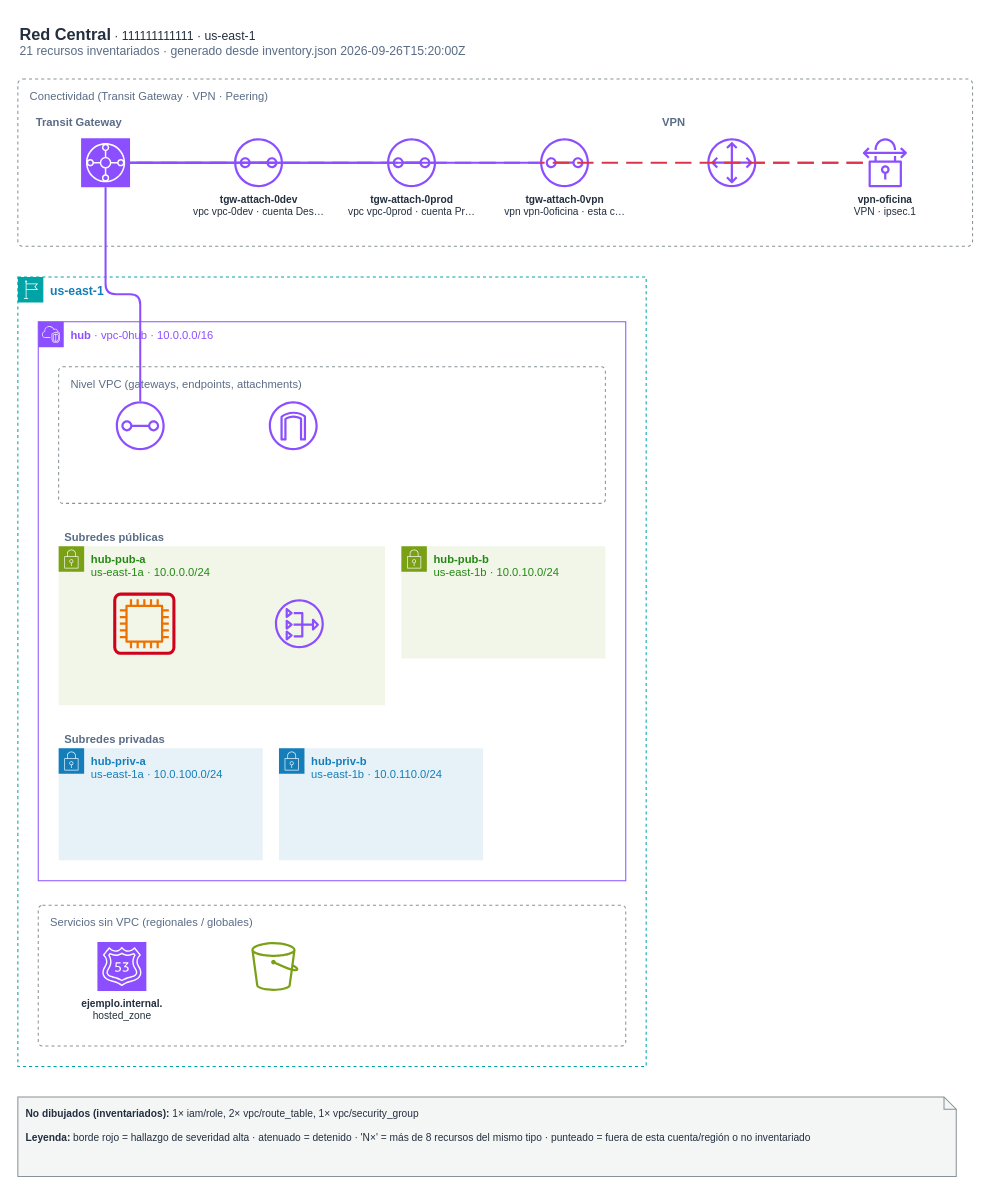
Some shapes in this 990 by 1194 pixel diagram are drawn without their labels. The shapes that lost their labels are listed below. From the top down, each one's centre as x and y in pixels, then its label:
At (105,162): "tgw-central Transit Gateway · 64512".
At (731,162): "oficina-principal CGW · BGP 65000".
At (139,425): "tgw-attach-0hub → TGW tgw-0central".
At (292,425): "hub-igw internet_gateway".
At (143,623): "bastion t3.micro".
At (298,623): "hub-nat-a nat_gateway".
At (274,965): "hub-flow-logs-ejemplo bucket".
